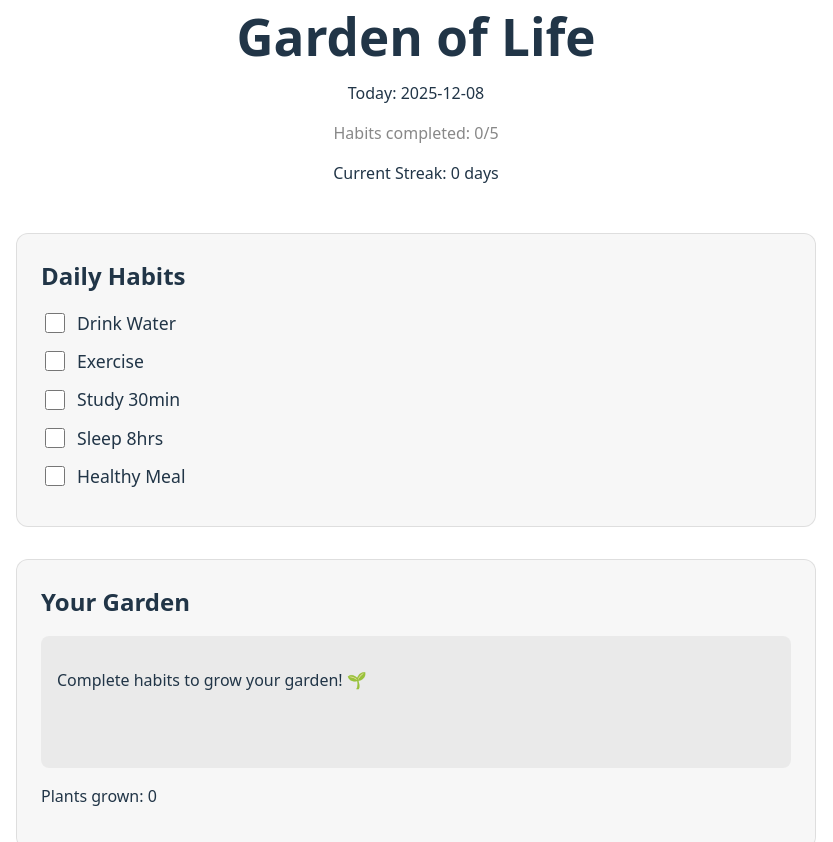
Test: TC03 - Streak Validation › should increment streak to 1 when all 5 habits are completed
// Complete first 4 habits
Click the checkbox with test id "habit-drink-water": (55, 323) [45,313,65,333]
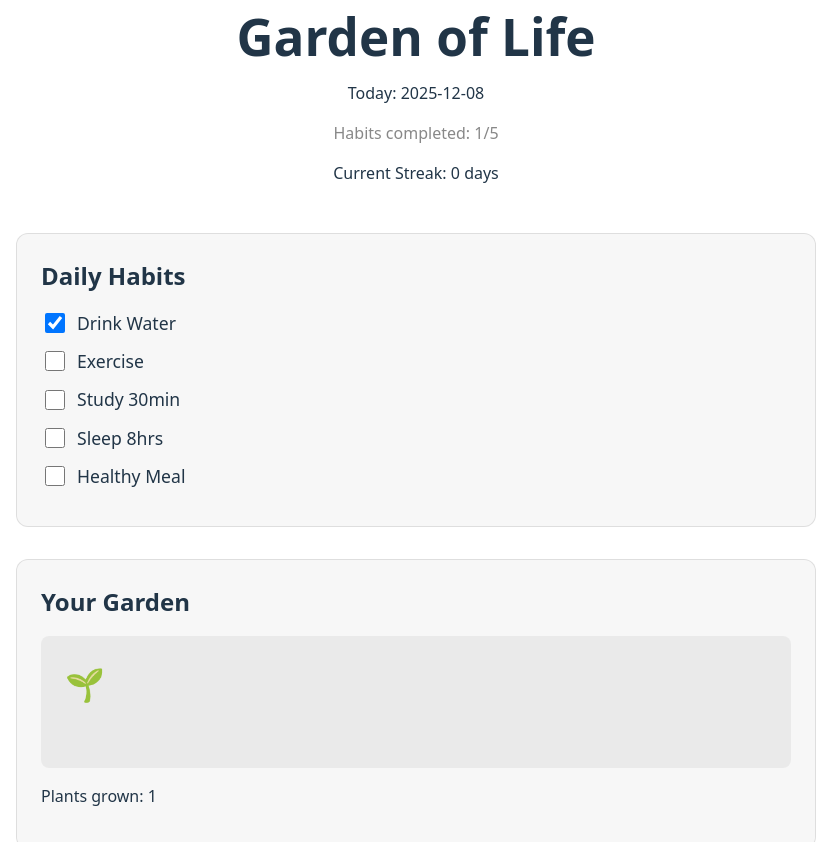
Click the checkbox with test id "habit-exercise": (55, 361) [45,351,65,371]
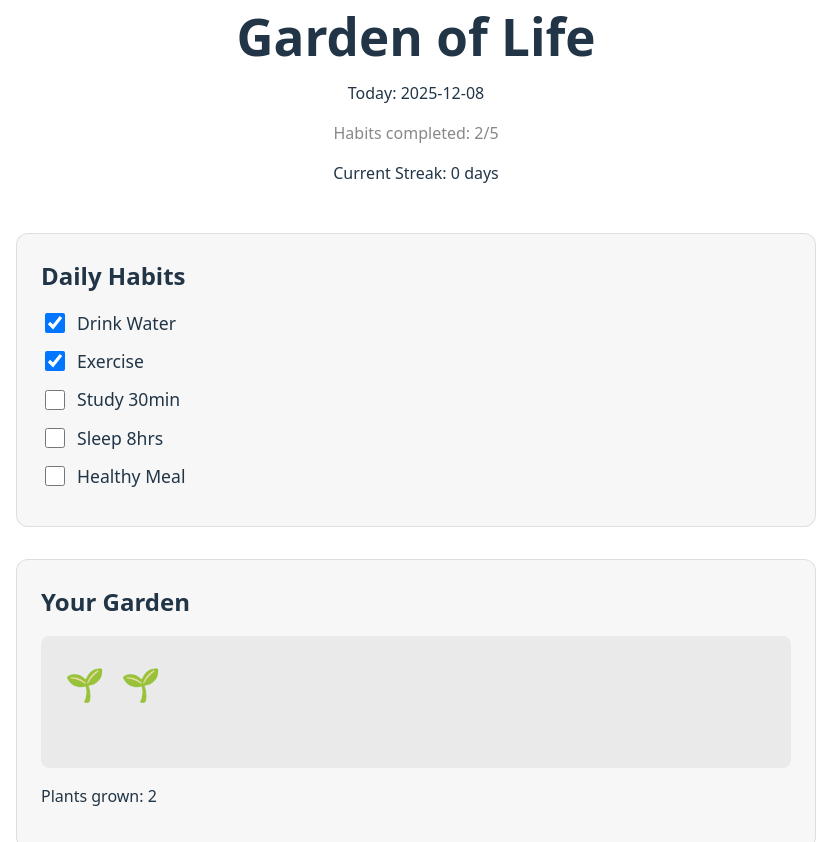
Click the checkbox with test id "habit-study-30": (55, 400) [45,390,65,410]
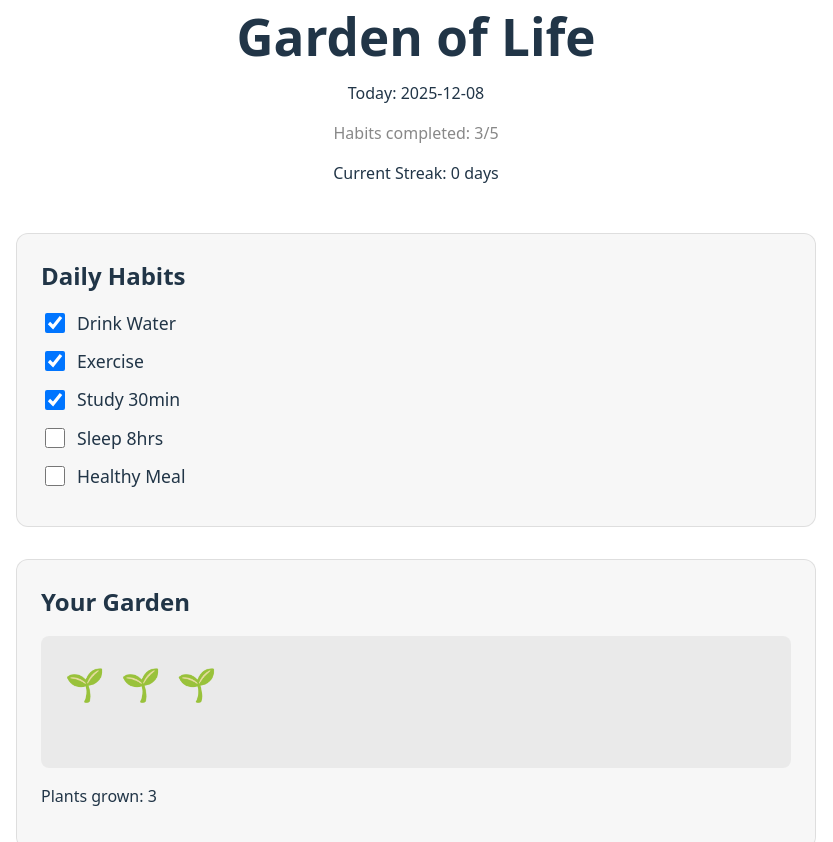
Click the checkbox with test id "habit-sleep-8": (55, 438) [45,428,65,448]
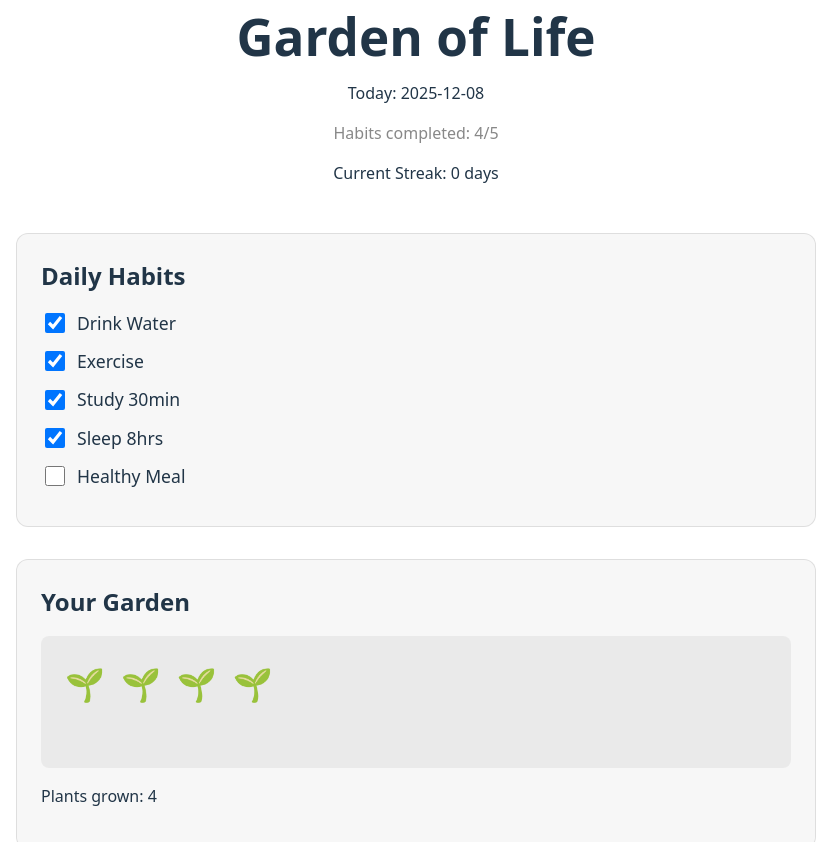
Check: the text with test id "streak-indicator" reads "Current Streak: 0 days", box [333,162,499,184]
// Complete the last habit
Click the checkbox with test id "habit-healthy-meal": (55, 476) [45,466,65,486]
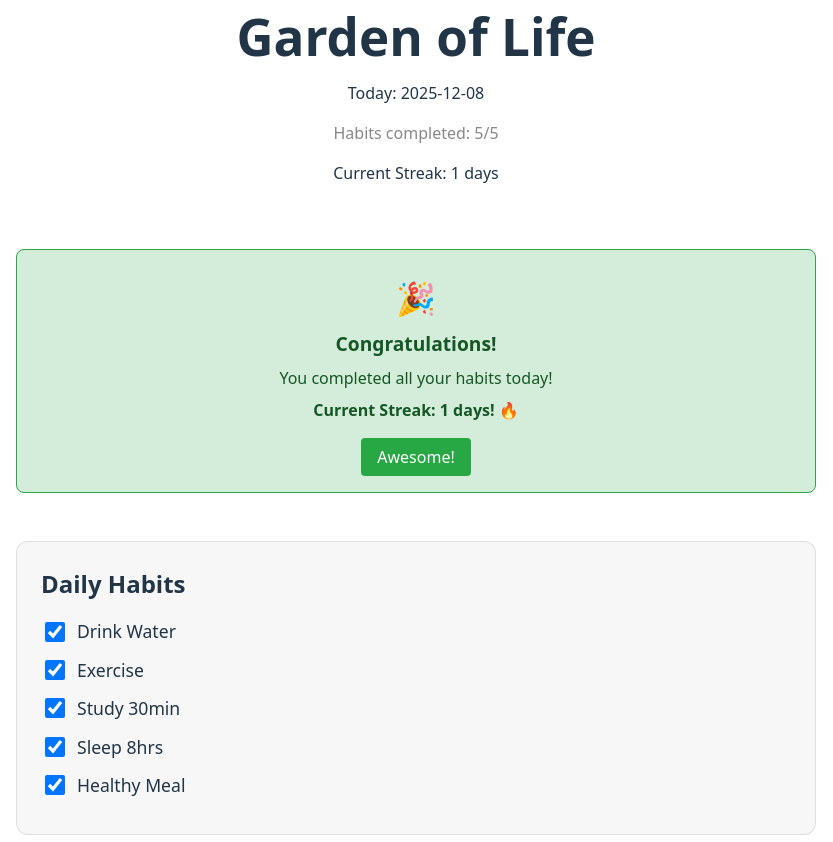
Check: the text with test id "streak-indicator" reads "Current Streak: 1 days", box [333,162,499,184]
